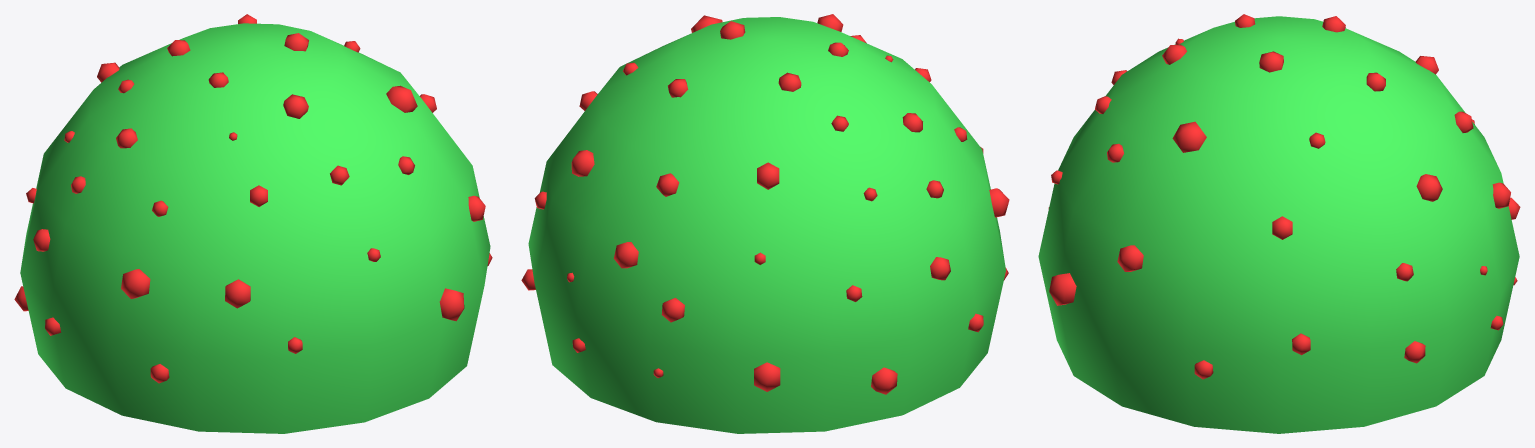
File: BerryBush.FBX
3 renders of one model, left to right at view 1: azimuth 30°, elevation 25°; view 2: azimuth 150°, elevation 25°; view 3: azimuth 270°, elevation 25°, orthographic.
Parts seen in each view (by area): view 1: Sphere001; view 2: Sphere001; view 3: Sphere001.
Part boxes in pixels (x1,y1,x2,y2): Sphere001: [14, 14, 492, 433]; Sphere001: [521, 14, 1009, 433]; Sphere001: [1038, 14, 1520, 433].
Bounding box in the file's own units: 119 × 81.53 × 116.
